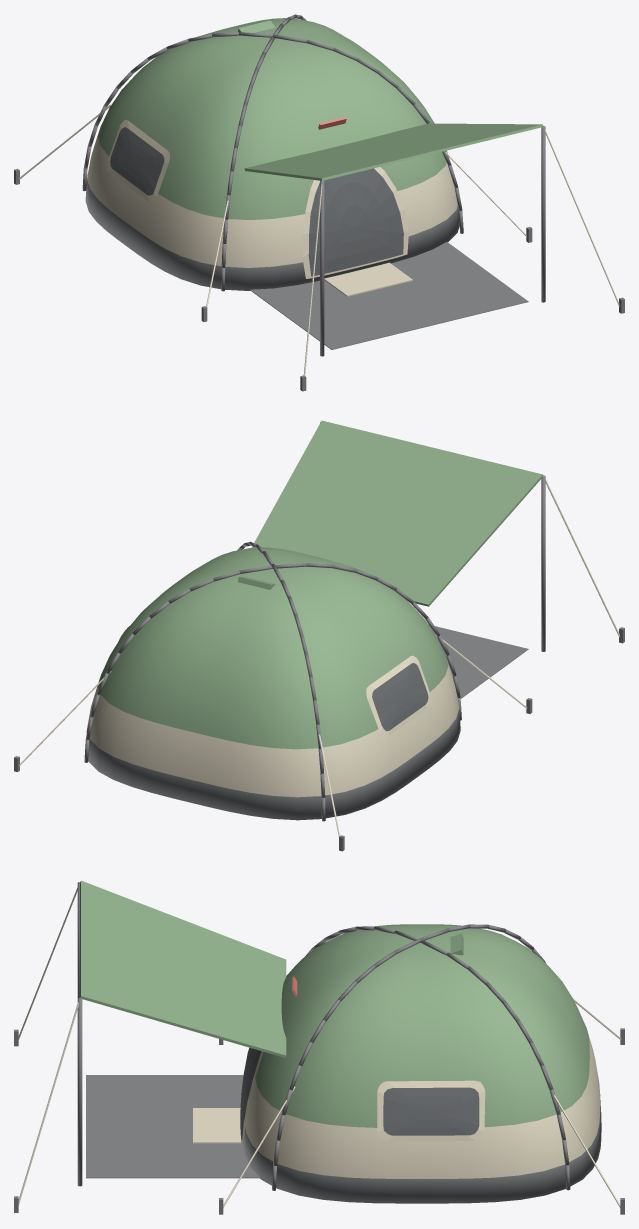
File: dome_tent.glb
3 renders of one model, top to bottom at view 1: azimuth 30°, elevation 25°; view 2: azimuth 150°, elevation 25°; view 3: azimuth 270°, elevation 25°, orthographic. The views are drawn at different scales.
Visible parts, largest first — view 1: dome_tent; view 2: dome_tent; view 3: dome_tent.
Part boxes in pixels (left/top/right/bottom): dome_tent: left=14, top=14, right=624, bottom=391; dome_tent: left=14, top=420, right=624, bottom=851; dome_tent: left=14, top=880, right=624, bottom=1214.
Size of the model in its own units: 3.5 by 1.82 by 5.27.
